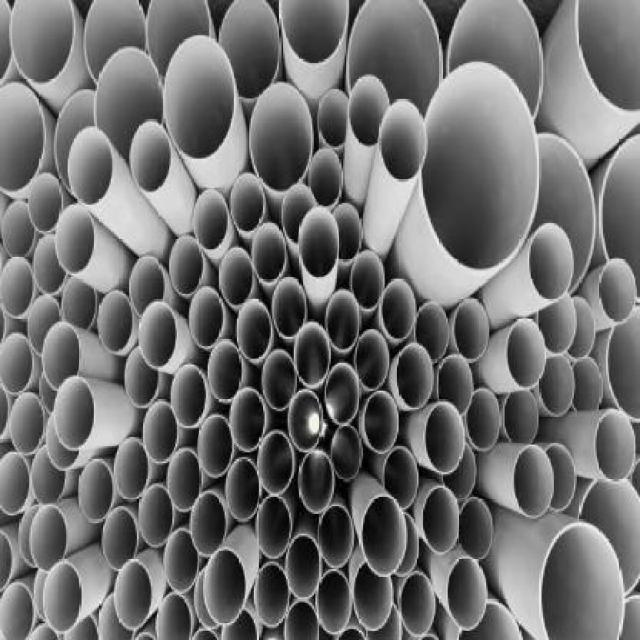pipe: (420, 63, 540, 272), (448, 2, 545, 122), (347, 2, 445, 119), (534, 129, 597, 294), (539, 523, 625, 640), (163, 35, 234, 160), (94, 45, 163, 165), (249, 82, 314, 193), (219, 2, 282, 104), (10, 2, 76, 84), (82, 2, 147, 84), (2, 82, 47, 193), (280, 2, 349, 67), (379, 100, 427, 182), (362, 494, 407, 576), (529, 222, 574, 302), (68, 128, 113, 205), (203, 548, 246, 625), (594, 408, 636, 483), (423, 400, 465, 474), (129, 120, 171, 193), (348, 74, 390, 147), (298, 208, 340, 279), (54, 376, 94, 450), (514, 446, 554, 520), (446, 557, 486, 630), (43, 561, 82, 634), (506, 319, 546, 390), (114, 559, 153, 630), (54, 205, 94, 273), (42, 322, 81, 390), (138, 300, 177, 368), (354, 562, 392, 631), (423, 486, 460, 554), (396, 343, 433, 409), (599, 259, 636, 325), (29, 505, 66, 571), (316, 569, 353, 634), (163, 528, 200, 593), (189, 492, 226, 557), (225, 457, 262, 522), (400, 570, 436, 636), (254, 562, 290, 628), (286, 533, 322, 599), (229, 388, 265, 453), (294, 322, 330, 387), (101, 506, 137, 571), (78, 459, 114, 524), (257, 431, 294, 494), (325, 362, 362, 424), (317, 503, 352, 568), (9, 391, 45, 454), (288, 388, 324, 451), (465, 388, 501, 451), (125, 345, 161, 408), (452, 297, 488, 360), (138, 483, 174, 546), (298, 451, 334, 514), (383, 446, 419, 509), (114, 437, 150, 500), (543, 445, 576, 513), (143, 402, 179, 464), (97, 291, 133, 353), (271, 277, 307, 339), (192, 189, 228, 251), (537, 297, 576, 354), (197, 414, 232, 477), (171, 363, 206, 426), (188, 286, 223, 349), (168, 448, 203, 511), (437, 354, 472, 416), (256, 495, 291, 557), (538, 356, 574, 416), (380, 279, 416, 339), (32, 234, 68, 294), (229, 173, 265, 233), (365, 391, 399, 454), (208, 340, 242, 403), (459, 499, 493, 562), (262, 348, 296, 410), (354, 328, 388, 390), (414, 300, 448, 362), (237, 298, 271, 360), (0, 257, 34, 319), (252, 222, 286, 284), (282, 182, 316, 244), (219, 246, 254, 306), (31, 445, 67, 503), (440, 442, 476, 500), (1, 331, 34, 394), (130, 255, 165, 314), (170, 237, 205, 296), (28, 172, 63, 231), (46, 411, 80, 471), (28, 294, 62, 354), (326, 289, 360, 349), (351, 249, 385, 309), (308, 148, 342, 207), (503, 390, 539, 445), (1, 580, 34, 640), (329, 423, 362, 482), (567, 294, 596, 360), (61, 277, 97, 330), (0, 451, 29, 516), (1, 200, 34, 257), (317, 88, 348, 148), (331, 205, 362, 264), (571, 357, 604, 410), (155, 594, 191, 640), (283, 600, 322, 640)
